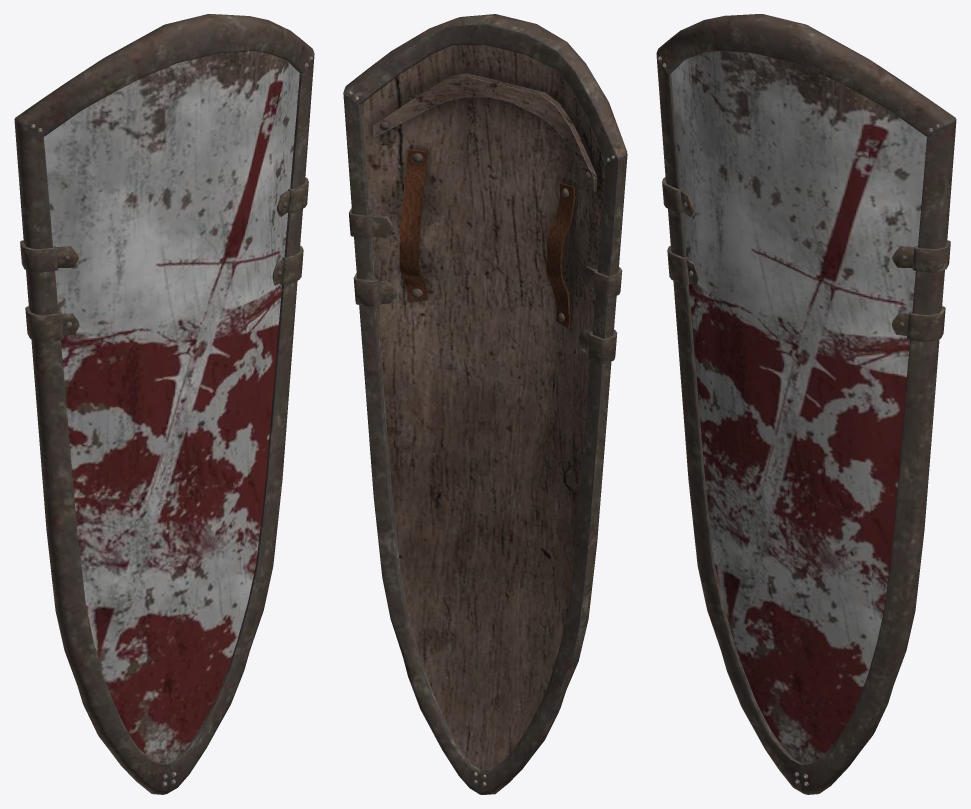
Rendered from kite_shield.ff59cbd3.glb.
The picture shows the model from 3 angles, left to right: view 1: azimuth 30°, elevation 25°; view 2: azimuth 150°, elevation 25°; view 3: azimuth 330°, elevation 25°; orthographic projection. The views are drawn at different scales.
Visible parts, largest first — view 1: kite_shield_body, kite_shield_metal_trim, kite_shield_clamps_and_bolts; view 2: kite_shield_body, kite_shield_metal_trim, kite_shield_clamps_and_bolts; view 3: kite_shield_body, kite_shield_metal_trim, kite_shield_clamps_and_bolts.
Part boxes in pixels (box(x1,y1,x2,y2)): kite_shield_body: box(43, 51, 299, 764); kite_shield_metal_trim: box(14, 14, 314, 794); kite_shield_clamps_and_bolts: box(20, 56, 312, 786); kite_shield_body: box(361, 45, 606, 770); kite_shield_metal_trim: box(343, 14, 627, 794); kite_shield_clamps_and_bolts: box(348, 91, 622, 786); kite_shield_body: box(671, 51, 927, 763); kite_shield_metal_trim: box(656, 14, 956, 794); kite_shield_clamps_and_bolts: box(658, 56, 950, 786).
Bounding box in the file's own units: 0.3897 × 1 × 0.0966.
2 materials, 2 textured.
